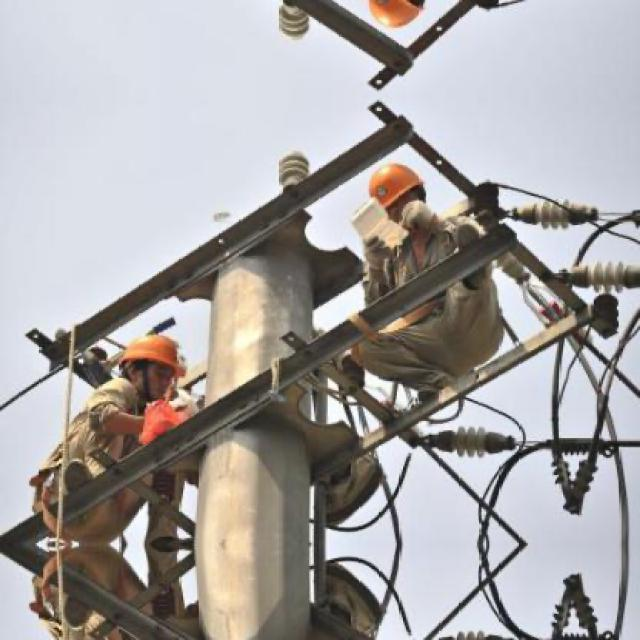con casco: (167, 315, 318, 437), (355, 141, 430, 242)
